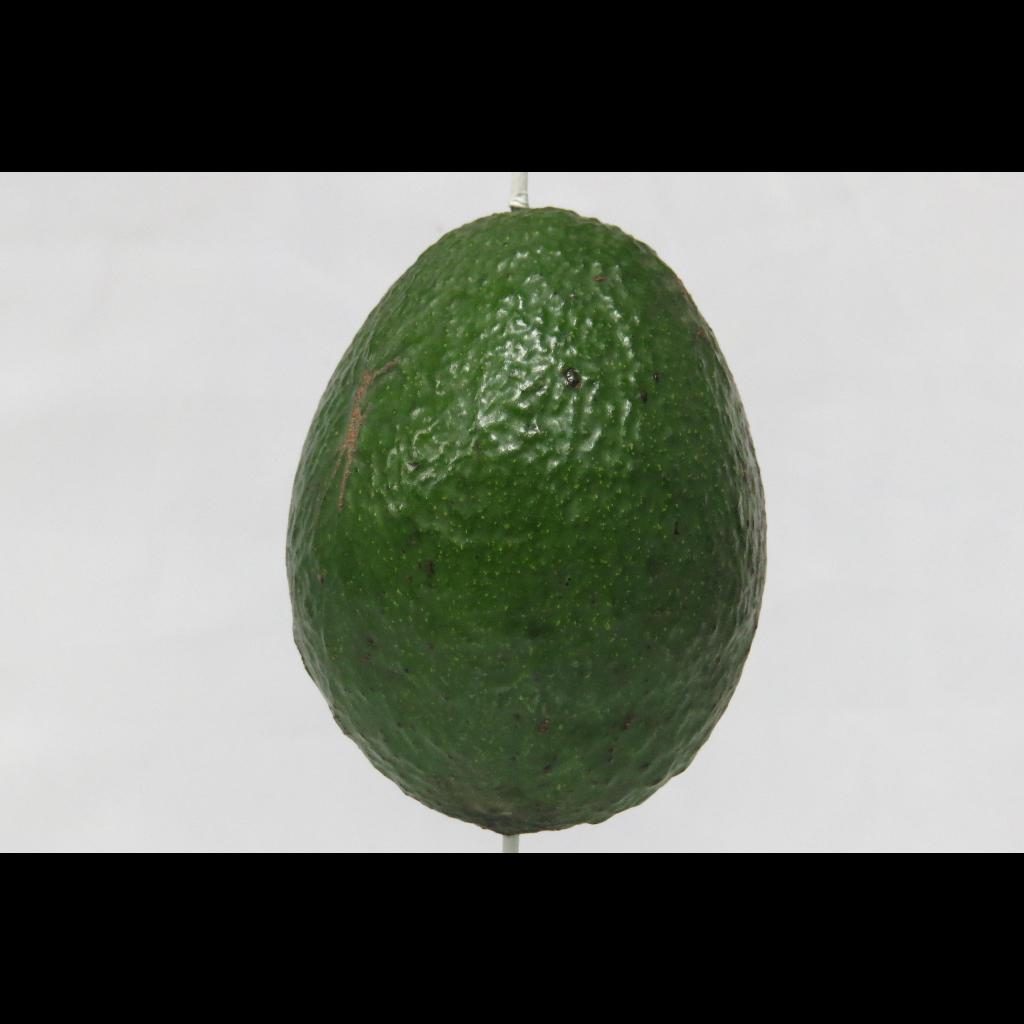Healthy: (266, 179, 810, 839)
